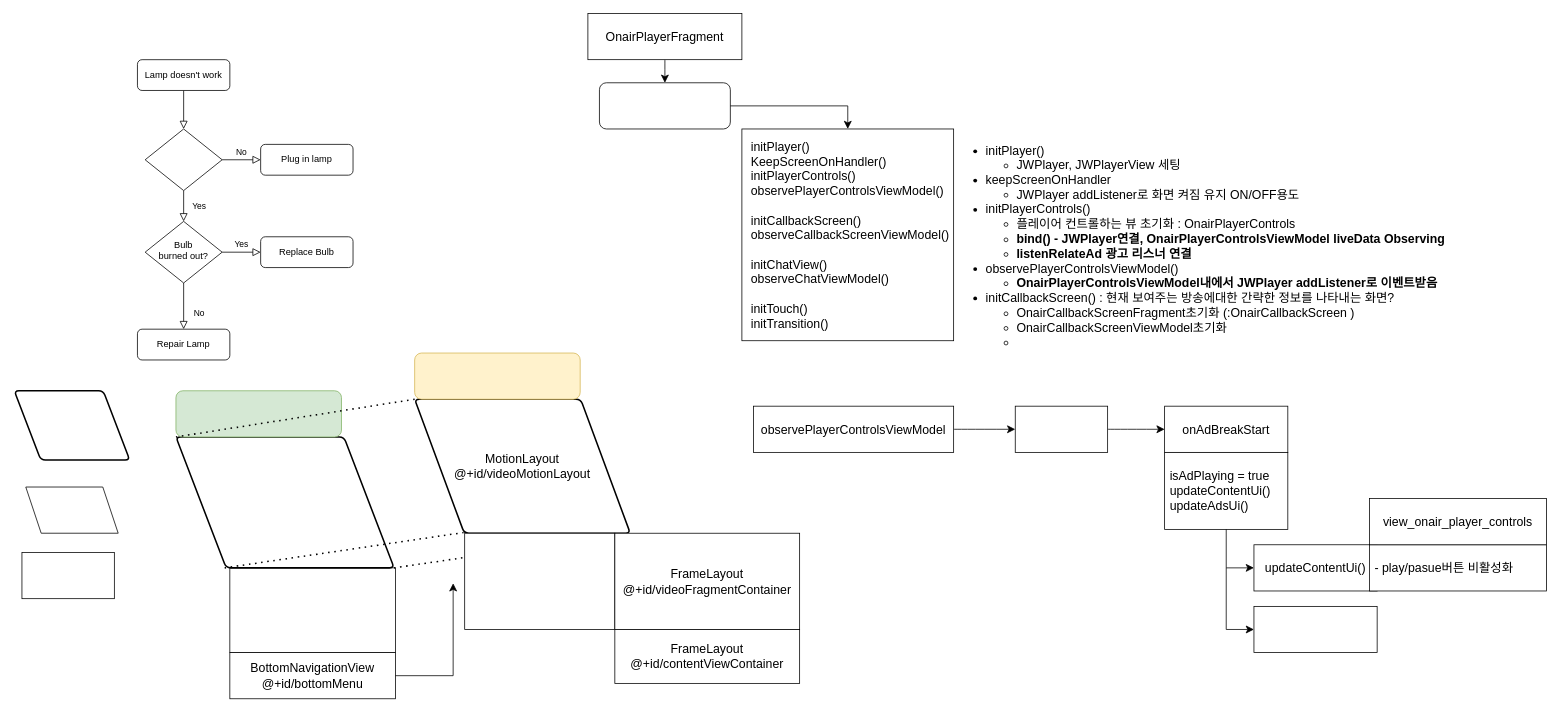
Some shapes in this 1560 by 712 pixel diagram are drawn without their labels. Here are the shapes that lost their labels. From the top down, the centre of each, then its label:
At point (664, 105): "afterViewCreated()".
At point (183, 159): "Lamp plugged in?".
At point (497, 375): "Fragment".
At point (258, 413): "MainActivity".
At point (1061, 428): "광고시작".
At point (284, 502): "MotionLayout".
At point (539, 580): "CardView @+id/videoViewContainer".
At point (312, 610): "FragmentContainerView @+id/fragmentContainer".
At point (1315, 629): "updateAdsUi()".
